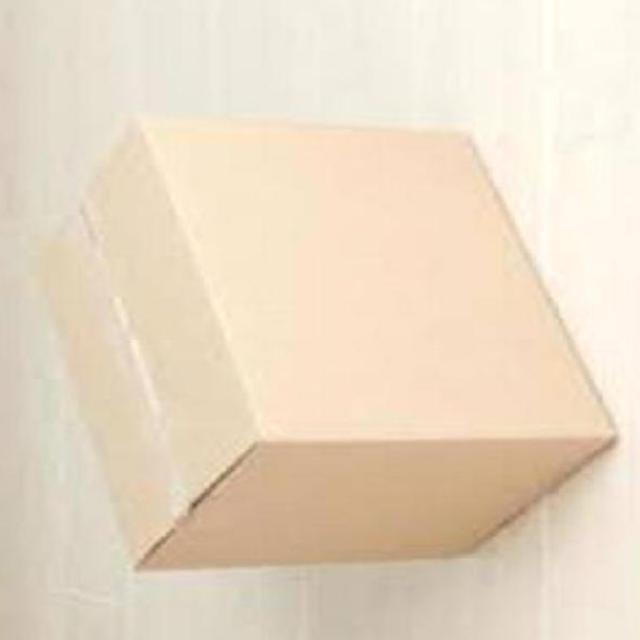box: (38, 114, 620, 572)
